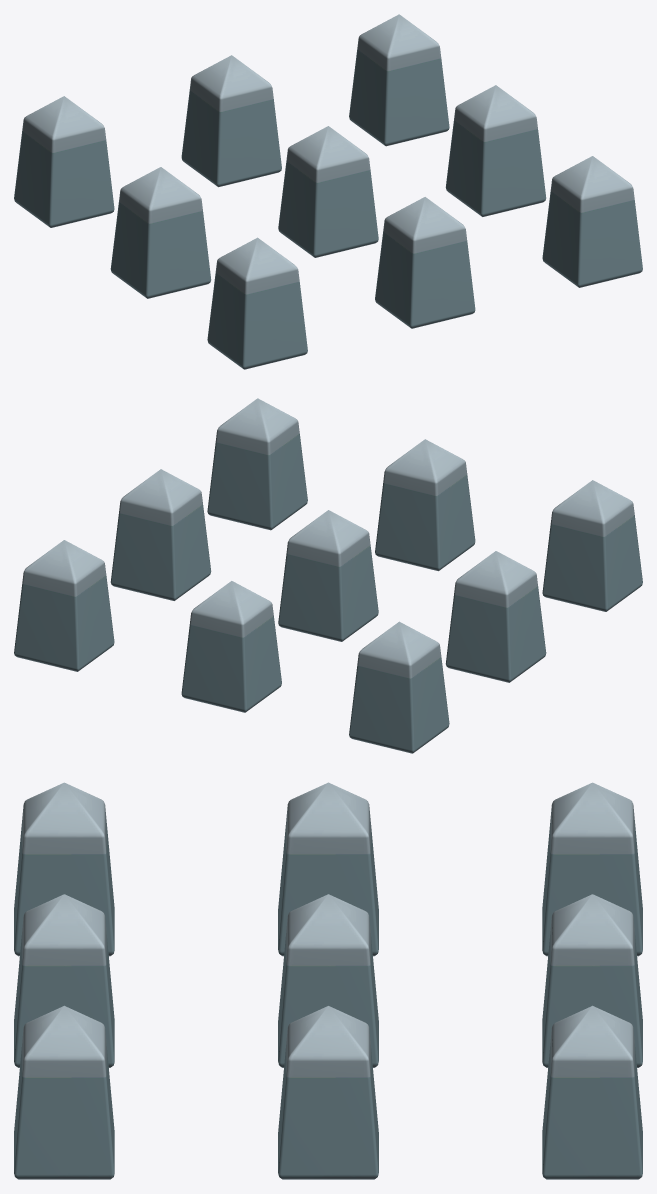
File: Props.fbx
3 renders of one model, top to bottom at view 1: azimuth 30°, elevation 25°; view 2: azimuth 150°, elevation 25°; view 3: azimuth 270°, elevation 25°, orthographic. The views are drawn at different scales.
Visible parts, largest first — view 1: 棱锥 (×9); view 2: 棱锥 (×9); view 3: 棱锥 (×9).
Boxes of the visible parts, x1,y1,x2,y2 form: 棱锥 (×9): (14,14,642,369); 棱锥 (×9): (14,398,642,753); 棱锥 (×9): (14,782,642,1179).
Size of the model in its own units: 23.89 by 6.42 by 23.81.
1 material, 1 textured.
